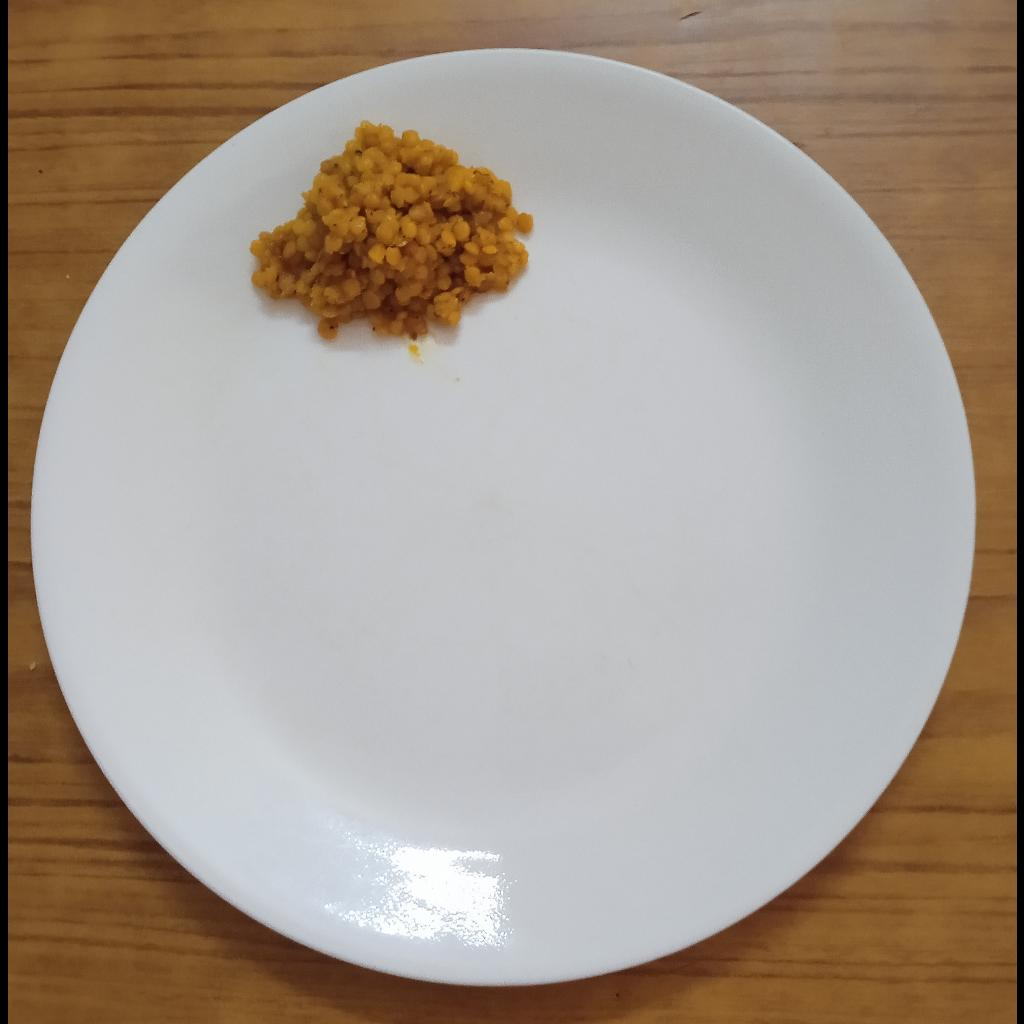daal: (250, 121, 531, 340)
